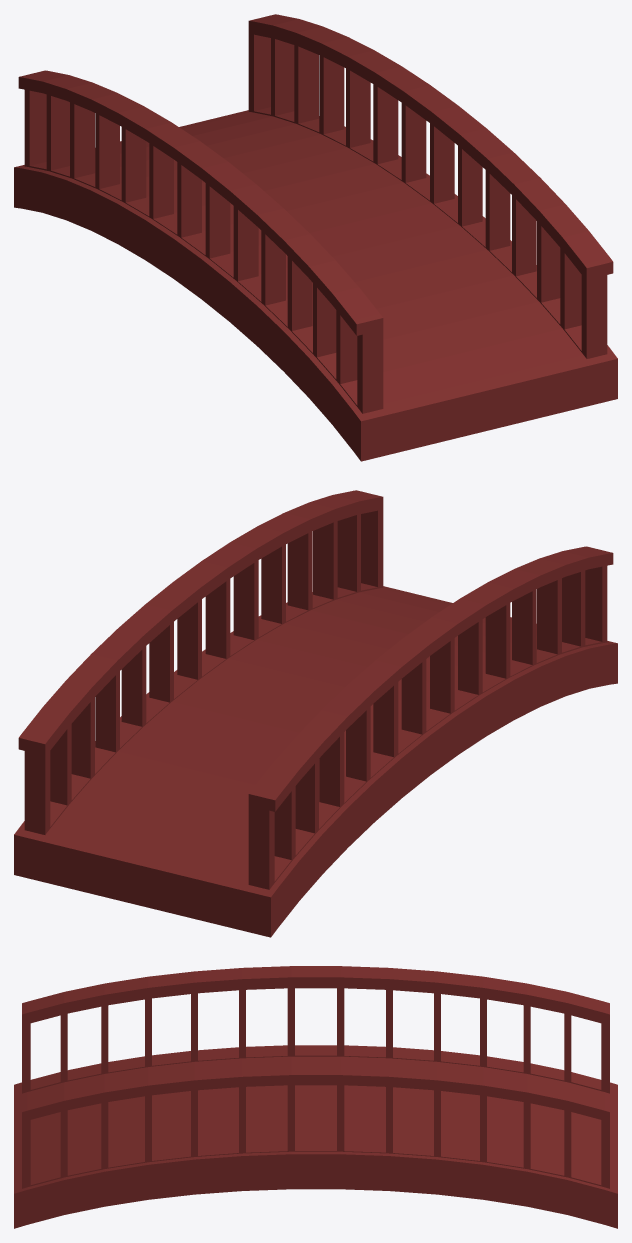
Rendered from Bridge.fbx.
3 views of the same model, one above another, from view 1: azimuth 30°, elevation 25°; view 2: azimuth 150°, elevation 25°; view 3: azimuth 270°, elevation 25° (orthographic). The views are drawn at different scales.
Parts seen in each view (by area): view 1: Cube.001; view 2: Cube.001; view 3: Cube.001.
Boxes of the visible parts, box(x1,y1,x2,y2) form: Cube.001: box(14, 14, 617, 461); Cube.001: box(14, 490, 617, 937); Cube.001: box(14, 966, 617, 1228).
Bounding box in the file's own units: 387 × 254 × 906.
